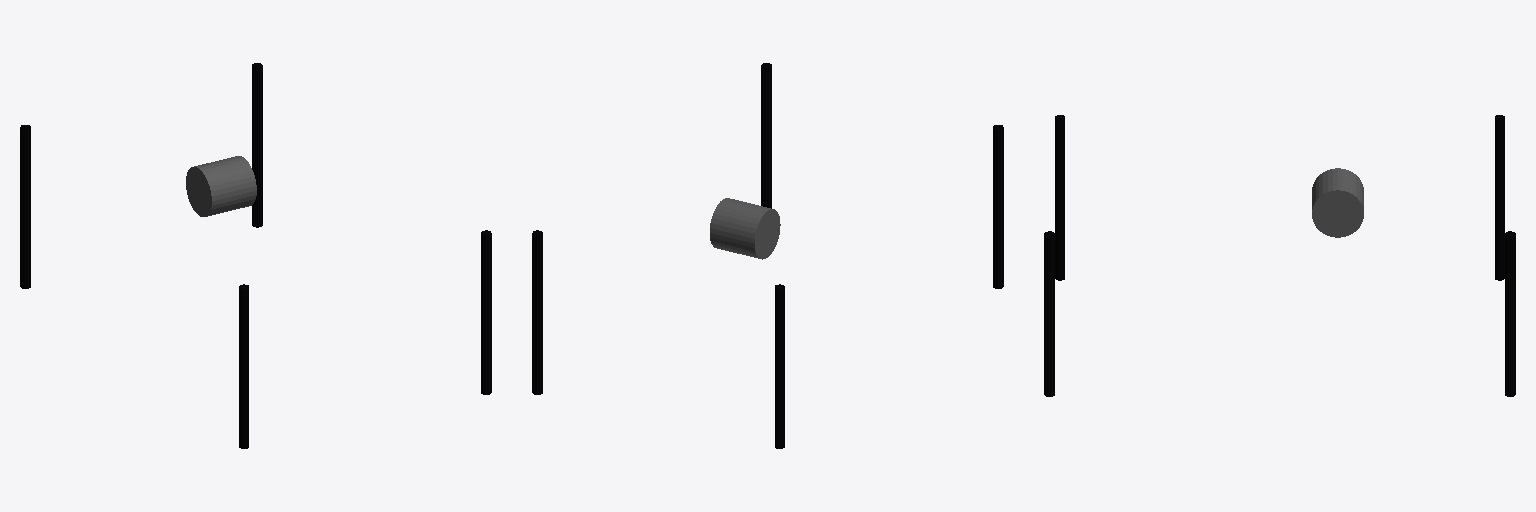
robot.urdf — iris_with_gimbal:
<?xml version="1.0"?>
<robot name="iris_with_gimbal">
  
  <!-- ========== IRIS QUADCOPTER BASE ========== -->
  
  <link name="base_link">
 
    <visual name="base_visual">
      <origin xyz="0 0 0" rpy="0 0 0"/>
      <geometry>
        <mesh filename="package://ardupilot_gazebo/models/iris_with_standoffs/meshes/iris.dae"/>
      </geometry>
      <material name="dark_grey">
        <color rgba="0.05 0.05 0.05 1"/>
      </material>
    </visual>
    
    <visual name="front_left_leg">
      <origin xyz="0.123 0.22 -0.11" rpy="0 0 0"/>
      <geometry>
        <cylinder radius="0.005" length="0.17"/>
      </geometry>
      <material name="dark_grey">
        <color rgba="0.05 0.05 0.05 1"/>
      </material>
    </visual>
    
    <visual name="front_right_leg">
      <origin xyz="0.123 -0.22 -0.11" rpy="0 0 0"/>
      <geometry>
        <cylinder radius="0.005" length="0.17"/>
      </geometry>
      <material name="dark_grey">
        <color rgba="0.05 0.05 0.05 1"/>
      </material>
    </visual>
    
    <visual name="rear_left_leg">
      <origin xyz="-0.140 0.21 -0.11" rpy="0 0 0"/>
      <geometry>
        <cylinder radius="0.005" length="0.17"/>
      </geometry>
      <material name="dark_grey">
        <color rgba="0.05 0.05 0.05 1"/>
      </material>
    </visual>
    
    <visual name="rear_right_leg">
      <origin xyz="-0.140 -0.21 -0.11" rpy="0 0 0"/>
      <geometry>
        <cylinder radius="0.005" length="0.17"/>
      </geometry>
      <material name="dark_grey">
        <color rgba="0.05 0.05 0.05 1"/>
      </material>
    </visual>
  </link>

  <!-- IMU Link -->
  <link name="imu_link">
    <inertial>
      <origin xyz="0 0 0" rpy="0 0 0"/>
      <mass value="0.15"/>
      <inertia ixx="0.00001" ixy="0" ixz="0" iyy="0.00002" iyz="0" izz="0.00002"/>
    </inertial>
  </link>
  
  <joint name="imu_joint" type="fixed">
    <origin xyz="0 0 0" rpy="0 0 0"/>
    <parent link="base_link"/>
    <child link="imu_link"/>
  </joint>

    <!-- ========== GIMBAL ATTACHMENT ========== -->
  
  <joint name="gimbal_joint" type="fixed">
    <origin xyz="0 -0.01 -0.124923" rpy="1.5707963 0 1.5707963"/>
    <parent link="base_link"/>
    <child link="gimbal_link"/>
  </joint>

  <!-- ========== GIMBAL LINKS ========== -->
  
  <link name="gimbal_link">
    <inertial>
      <origin xyz="0 0 0" rpy="0 0 0"/>
      <mass value="0.2"/>
      <inertia ixx="0.0001" ixy="0" ixz="0" iyy="0.0001" iyz="0" izz="0.0001"/>
    </inertial>
    
    <visual>
      <origin xyz="0 0 0" rpy="0 0 0"/>
      <geometry>
        <mesh filename="package://ardupilot_gazebo/models/gimbal_small_3d/meshes/base_plate.dae"/>
      </geometry>
      <material name="dark_grey">
        <color rgba="0.1 0.1 0.1 1"/>
      </material>
    </visual>
    
    <collision>
      <origin xyz="0.01 0.075 -0.025" rpy="0 0 0"/>
      <geometry>
        <box size="0.1 0.05 0.15"/>
      </geometry>
    </collision>
  </link>

  <link name="yaw_link">
    <inertial>
      <origin xyz="0 0 0" rpy="0 0 0"/>
      <mass value="0.01"/>
      <inertia ixx="0.00001" ixy="0" ixz="0" iyy="0.00001" iyz="0" izz="0.00001"/>
    </inertial>
    
    <visual>
      <origin xyz="0 0 0" rpy="0 0 0"/>
      <geometry>
        <mesh filename="package://ardupilot_gazebo/models/gimbal_small_3d/meshes/yaw_arm.dae"/>
      </geometry>
      <material name="dark_grey">
        <color rgba="0.1 0.1 0.1 1"/>
      </material>
    </visual>
    
    <collision>
      <origin xyz="0 0 0" rpy="0 0 0"/>
      <geometry>
        <mesh filename="package://ardupilot_gazebo/models/gimbal_small_3d/meshes/yaw_arm.dae"/>
      </geometry>
    </collision>
  </link>

  <joint name="yaw_joint" type="revolute">
    <origin xyz="0.0105 0.065 -0.002" rpy="0 0 0"/>
    <parent link="gimbal_link"/>
    <child link="yaw_link"/>
    <axis xyz="0 1 0"/>
    <limit lower="-3.1415926" upper="3.1415926" effort="1.0" velocity="1.0"/>
    <dynamics damping="0.01"/>
  </joint>

  <link name="roll_link">
    <inertial>
      <origin xyz="0 0 0" rpy="0 0 0"/>
      <mass value="0.01"/>
      <inertia ixx="0.00001" ixy="0" ixz="0" iyy="0.00001" iyz="0" izz="0.00001"/>
    </inertial>
    
    <visual>
      <origin xyz="0 0 0" rpy="0 0 0"/>
      <geometry>
        <mesh filename="package://ardupilot_gazebo/models/gimbal_small_3d/meshes/roll_arm.dae"/>
      </geometry>
      <material name="dark_grey">
        <color rgba="0.1 0.1 0.1 1"/>
      </material>
    </visual>
    
    <collision>
      <origin xyz="0 0 0" rpy="0 0 0"/>
      <geometry>
        <mesh filename="package://ardupilot_gazebo/models/gimbal_small_3d/meshes/roll_arm.dae"/>
      </geometry>
    </collision>
  </link>

  <joint name="roll_joint" type="revolute">
    <origin xyz="0.0099 0.002 -0.05" rpy="0 0 0"/>
    <parent link="yaw_link"/>
    <child link="roll_link"/>
    <axis xyz="0 0 1"/>
    <limit lower="-3.1415926" upper="3.1415926" effort="1.0" velocity="1.0"/>
    <dynamics damping="0.01"/>
  </joint>

  <link name="pitch_link">
    <inertial>
      <origin xyz="0 0 0" rpy="0 0 0"/>
      <mass value="0.01"/>
      <inertia ixx="0.00001" ixy="0" ixz="0" iyy="0.00001" iyz="0" izz="0.00001"/>
    </inertial>
    
    <visual name="enclosure">
      <origin xyz="0 0 0" rpy="0 0 0"/>
      <geometry>
        <mesh filename="package://ardupilot_gazebo/models/gimbal_small_3d/meshes/camera_enclosure.dae"/>
      </geometry>
      <material name="light_grey">
        <color rgba="0.4 0.4 0.4 1"/>
      </material>
    </visual>
    
    <visual name="camera">
      <origin xyz="0 0 0.02" rpy="0 0 0"/>
      <geometry>
        <cylinder radius="0.025" length="0.050"/>
      </geometry>
      <material name="light_grey">
        <color rgba="0.4 0.4 0.4 1"/>
      </material>
    </visual>
    
    <collision name="enclosure">
      <origin xyz="0 0 0" rpy="0 0 0"/>
      <geometry>
        <mesh filename="package://ardupilot_gazebo/models/gimbal_small_3d/meshes/camera_enclosure.dae"/>
      </geometry>
    </collision>
    
    <collision name="camera">
      <origin xyz="0 0 0.02" rpy="0 0 0"/>
      <geometry>
        <cylinder radius="0.025" length="0.050"/>
      </geometry>
    </collision>
  </link>

  <joint name="pitch_joint" type="revolute">
    <origin xyz="0.045 0.0021 0.0199" rpy="0 0 0"/>
    <parent link="roll_link"/>
    <child link="pitch_link"/>
    <axis xyz="1 0 0"/>
    <limit lower="-3.1415926" upper="3.1415926" effort="1.0" velocity="1.0"/>
    <dynamics damping="0.01"/>
  </joint>

  <!-- Camera optical frame (for sensor data) -->
  <link name="camera_link"/>
  
  <joint name="camera_joint" type="fixed">
    <origin xyz="0 0 0.04" rpy="-1.57 -1.57 0"/>
    <parent link="pitch_link"/>
    <child link="camera_link"/>
  </joint>

  <link name="yolo_link"></link>
  <joint name="yolo_joint" type="fixed">
    <origin xyz="0 0 0" rpy="-1.57 0 -1.57"/>
    <parent link="camera_link"/>
    <child link="yolo_link"/>
  </joint>
</robot>

--- Facts derived from the render (not from the file) ---
The picture shows the robot from 3 angles, left to right: view 1: azimuth 30°, elevation 25°; view 2: azimuth 150°, elevation 25°; view 3: azimuth 270°, elevation 25°; orthographic projection.
Model iris_with_gimbal with 8 links and 7 joints (3 revolute, 4 fixed), rooted at base_link, posed all joints at 0.
Visible links, largest first — view 1: base_link, pitch_link; view 2: base_link, pitch_link; view 3: base_link, pitch_link.
Boxes of the visible links, <box> form: base_link: <box>20,63,491,448</box>; pitch_link: <box>186,156,256,216</box>; base_link: <box>532,63,1003,448</box>; pitch_link: <box>710,198,780,259</box>; base_link: <box>1044,115,1515,396</box>; pitch_link: <box>1312,168,1363,237</box>.
Size in the robot's own frame: 0.273 by 0.45 by 0.17 metres.
0 mesh visuals loaded from 5 distinct referenced files (none loaded); not drawn: 5 (reference not matched to a file when rendering).
